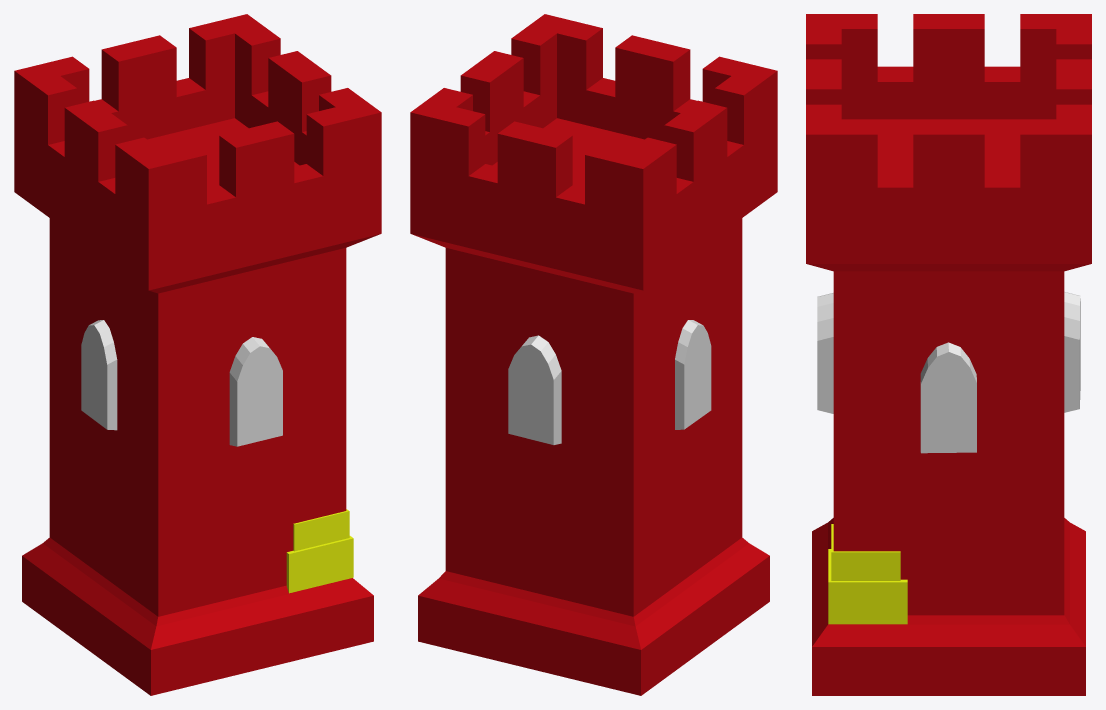
Rendered from tower.gltf.
The picture shows the model from 3 angles, left to right: view 1: azimuth 30°, elevation 25°; view 2: azimuth 150°, elevation 25°; view 3: azimuth 270°, elevation 25°; orthographic projection. The views are drawn at different scales.
Parts seen in each view (by area): view 1: Plane, Cube.004, Cube, Cube.002; view 2: Plane, Cube.005, Cube.002; view 3: Plane, Cube, Cube.001, Cube.004, Cube.005.
Part boxes in pixels (x1,y1,x2,y2): Plane: (14,14,381,695); Cube.004: (229,337,282,446); Cube: (286,509,353,593); Cube.002: (81,320,117,430); Plane: (410,14,777,695); Cube.005: (508,335,561,444); Cube.002: (675,320,711,429); Plane: (806,14,1091,695); Cube: (828,524,907,624); Cube.001: (920,342,976,453); Cube.004: (817,293,833,413); Cube.005: (1064,292,1080,412).
Size of the model in its own units: 0.8841 by 1.92 by 0.8841.
Materials: 3 (2 with a texture image).
